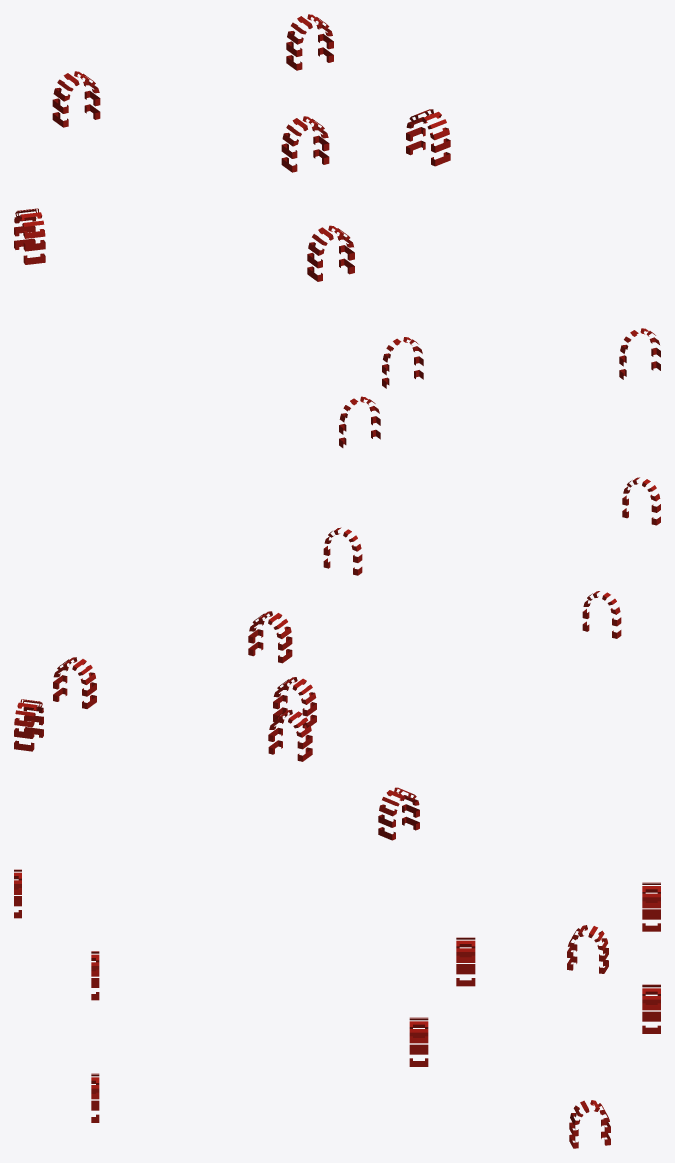
The model's file is MarcoPuertaBlanco.fbx.
3 renders of one model, top to bottom at view 1: azimuth 30°, elevation 25°; view 2: azimuth 150°, elevation 25°; view 3: azimuth 270°, elevation 25°, orthographic. The views are drawn at different scales.
Parts seen in each view (by area): view 1: marcopuertablanco; view 2: marcopuertablanco; view 3: marcopuertablanco.
Part boxes in pixels (x1,y1,x2,y2): marcopuertablanco: (14, 14, 660, 447); marcopuertablanco: (14, 477, 660, 840); marcopuertablanco: (14, 869, 660, 1148).
Size of the model in its own units: 3637 by 1102 by 5333.
